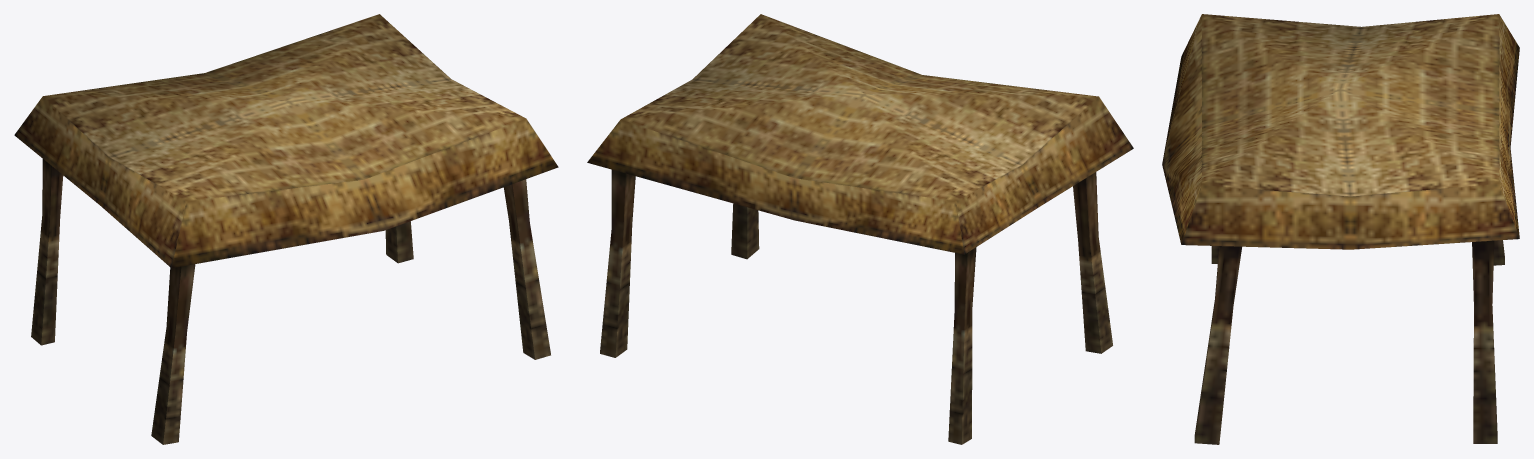
The model's file is b_general_obj_07.glb.
3 views of the same model, side by side, from view 1: azimuth 30°, elevation 25°; view 2: azimuth 150°, elevation 25°; view 3: azimuth 270°, elevation 25° (orthographic). The views are drawn at different scales.
Visible parts, largest first — view 1: Object01; view 2: Object01; view 3: Object01.
Boxes of the visible parts, box(x1,y1,x2,y2) form: Object01: box(14, 14, 558, 444); Object01: box(587, 14, 1133, 444); Object01: box(1162, 14, 1519, 444).
Size of the model in its own units: 4.57 by 2.85 by 3.54.
Materials: 1 (1 with a texture image).
